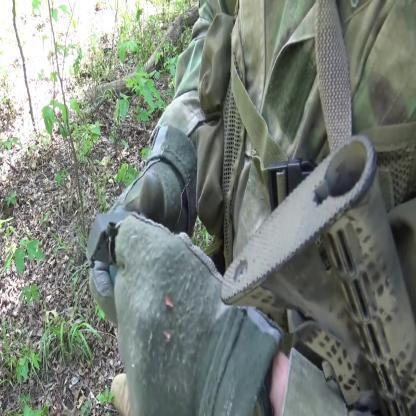Grenade: (85, 212, 155, 302)
Gun: (220, 131, 415, 416)
